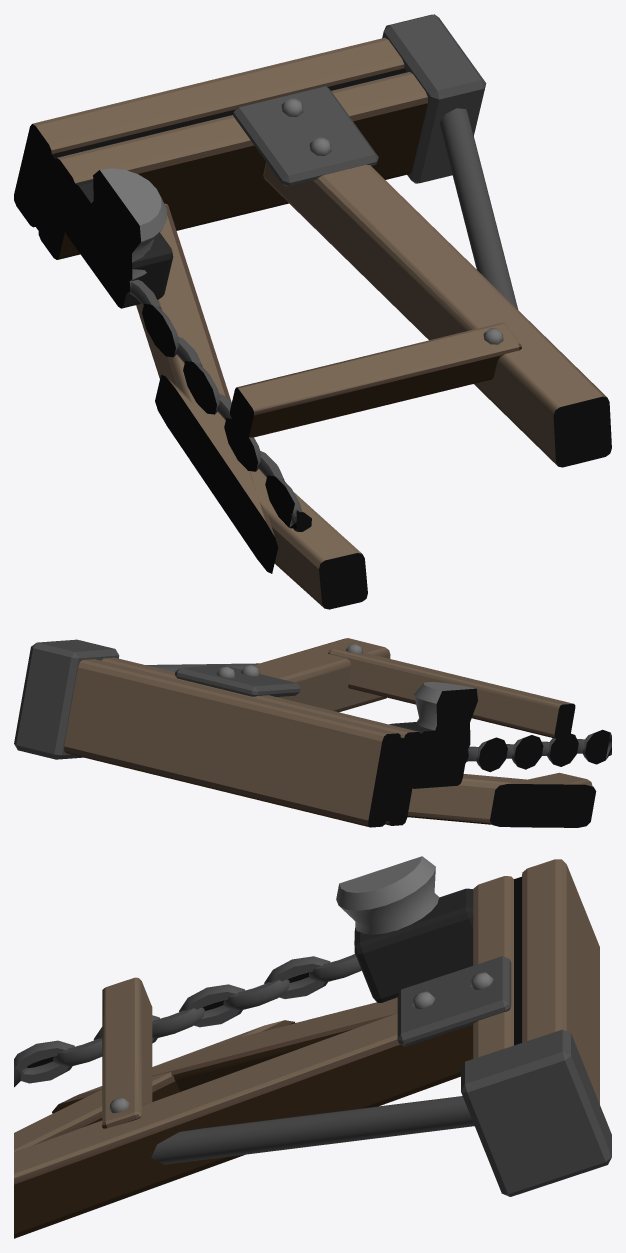
Rendered from gbc_derrick_ur.glb.
3 views of the same model, one above another, from view 1: azimuth 30°, elevation 25°; view 2: azimuth 150°, elevation 25°; view 3: azimuth 270°, elevation 25° (orthographic). The views are drawn at different scales.
Parts seen in each view (by area): view 1: leg1.001, beam.002, beam.003, crossbar.002, leg3.001, leg2.001, bracket1.001, cap.002, pulley.001, strut.001, wheel.001, beam_seam.001 (+4 smaller); view 2: beam.003, crossbar.002, cap.002, leg2.001, leg1.001, leg3.001, beam.002, pulley.001, wheel.001, bracket1.001, link3.001, link1.001 (+4 smaller); view 3: leg1.001, cap.002, beam.003, strut.001, pulley.001, crossbar.002, leg2.001, bracket1.001, wheel.001, beam.002, leg3.001, link7.001 (+7 smaller).
Part boxes in pixels (x1,y1,x2,y2): leg1.001: (263, 162, 611, 467); beam.002: (38, 72, 427, 259); beam.003: (14, 37, 404, 227); crossbar.002: (230, 322, 521, 438); leg3.001: (155, 374, 367, 609); leg2.001: (136, 203, 278, 573); bracket1.001: (233, 86, 378, 186); cap.002: (382, 14, 486, 183); pulley.001: (65, 179, 173, 308); strut.001: (439, 108, 518, 309); wheel.001: (85, 168, 167, 281); beam_seam.001: (34, 68, 406, 230); beam.003: (64, 659, 400, 827); crossbar.002: (328, 648, 575, 738); cap.002: (14, 639, 119, 759); leg2.001: (407, 774, 596, 827); leg1.001: (240, 638, 390, 712); leg3.001: (490, 772, 592, 827); beam.002: (101, 657, 420, 825); pulley.001: (389, 722, 470, 788); wheel.001: (414, 682, 477, 758); bracket1.001: (175, 665, 300, 696); link3.001: (512, 735, 543, 769); link1.001: (476, 737, 507, 772); leg1.001: (14, 1013, 472, 1238); cap.002: (461, 1029, 611, 1196); beam.003: (522, 859, 599, 1104); strut.001: (151, 1096, 474, 1164); pulley.001: (354, 888, 473, 1002); crossbar.002: (102, 977, 152, 1128); leg2.001: (52, 997, 397, 1113); bracket1.001: (397, 956, 511, 1046); wheel.001: (336, 856, 439, 944); beam.002: (473, 876, 513, 1058); leg3.001: (14, 1020, 294, 1152); link7.001: (14, 1040, 74, 1083).
Bounding box in the file's own units: 22.1 × 16.11 × 27.04.
